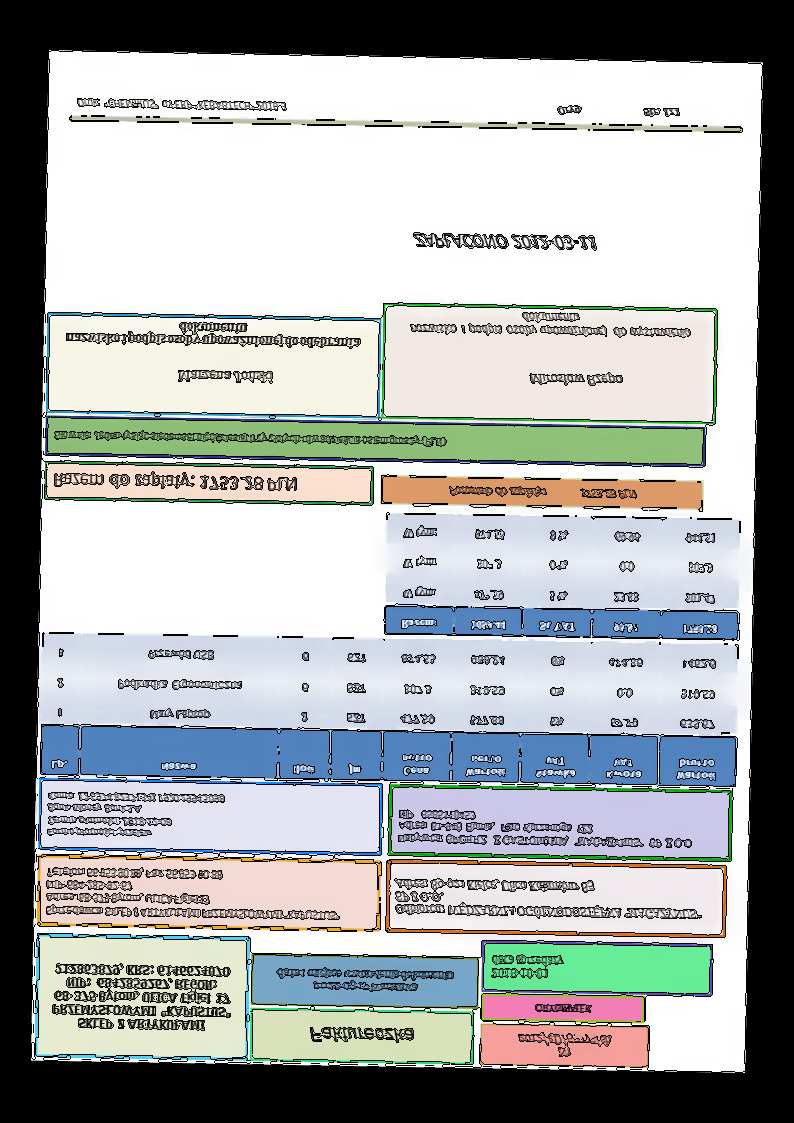Table: (39, 630, 740, 789), (383, 514, 742, 644)
TextBox: (42, 864, 340, 925), (393, 874, 705, 925), (49, 960, 233, 1036), (397, 807, 696, 852), (63, 318, 362, 352), (407, 308, 693, 343), (45, 789, 227, 843), (51, 426, 450, 450), (50, 469, 299, 496), (274, 965, 456, 997), (410, 229, 602, 257), (75, 95, 291, 115), (445, 483, 640, 503), (515, 1029, 613, 1061), (306, 1021, 416, 1048), (173, 366, 274, 389), (489, 952, 563, 983), (554, 103, 682, 120), (527, 370, 625, 391), (532, 1001, 591, 1017)
